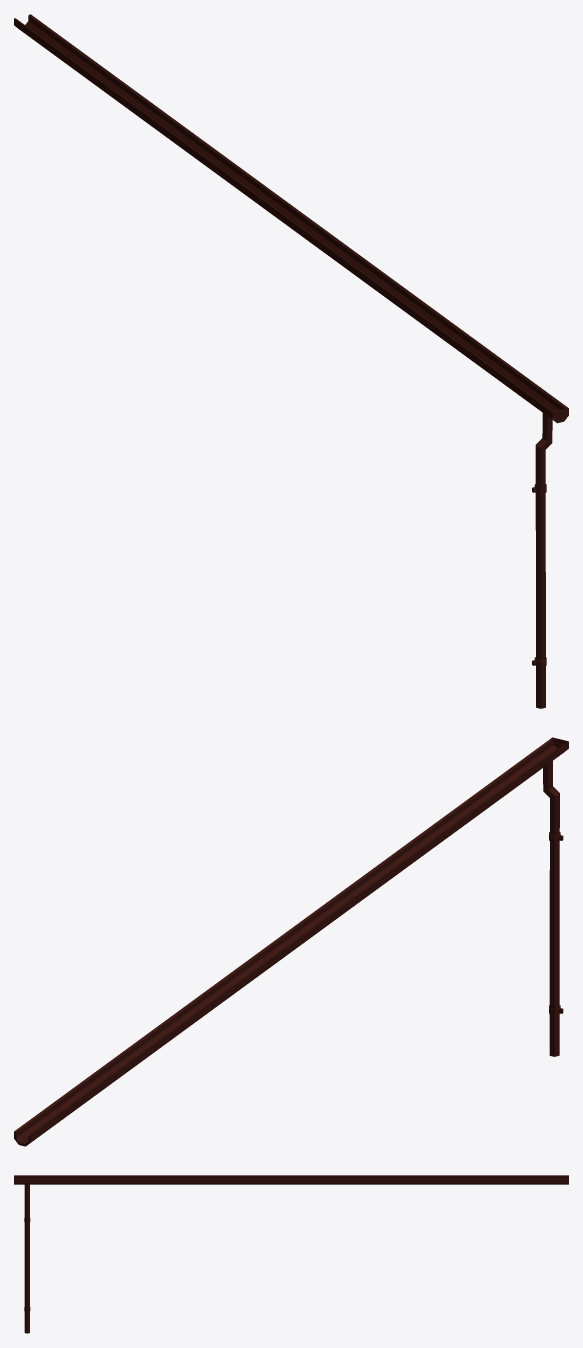
File: rainwater channel5.fbx
3 renders of one model, top to bottom at view 1: azimuth 30°, elevation 25°; view 2: azimuth 150°, elevation 25°; view 3: azimuth 270°, elevation 25°, orthographic. The views are drawn at different scales.
Visible parts, largest first — view 1: canale, tubo_canale; view 2: canale, tubo_canale; view 3: canale, tubo_canale.
Part boxes in pixels (<box>): canale: <box>14,14,567,421</box>; tubo_canale: <box>535,413,552,708</box>; canale: <box>14,738,568,1146</box>; tubo_canale: <box>543,761,559,1056</box>; canale: <box>14,1175,568,1184</box>; tubo_canale: <box>24,1184,29,1333</box>.
Bounding box in the file's own units: 46.68 × 585 × 1877.
